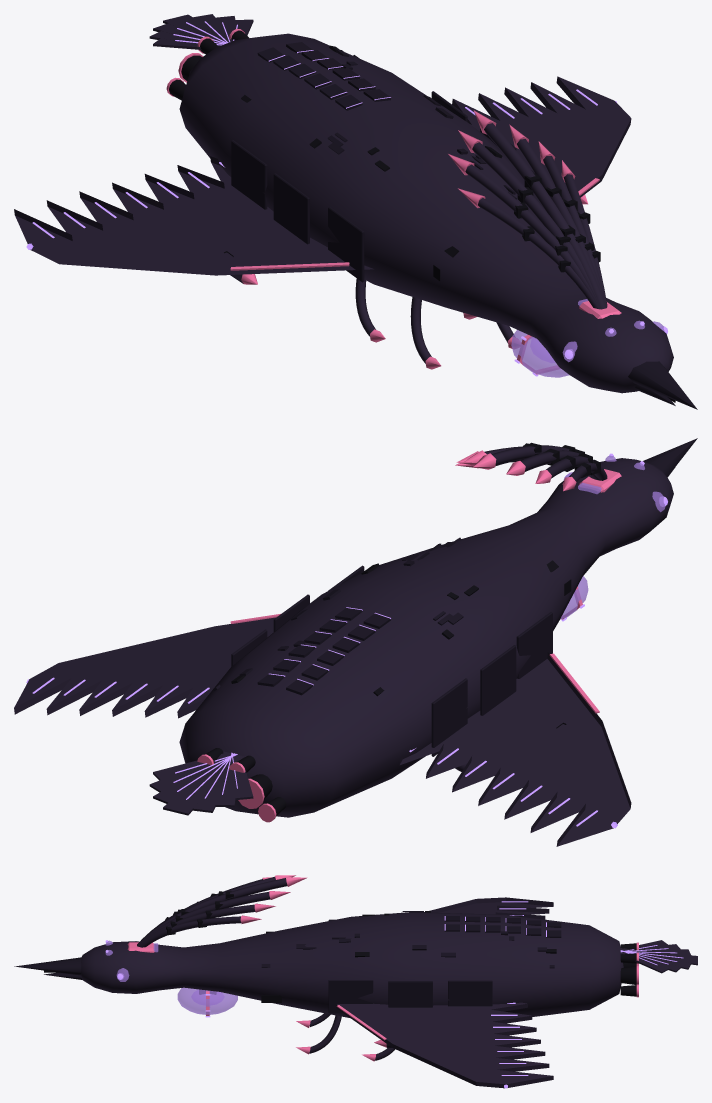
File: choral-piesniarze-hawk-2-lod0.glb
The picture shows the model from 3 angles, top to bottom: view 1: azimuth 30°, elevation 25°; view 2: azimuth 150°, elevation 25°; view 3: azimuth 270°, elevation 25°; orthographic projection. The views are drawn at different scales.
Size of the model in its own units: 62.8 by 26.39 by 96.36.
